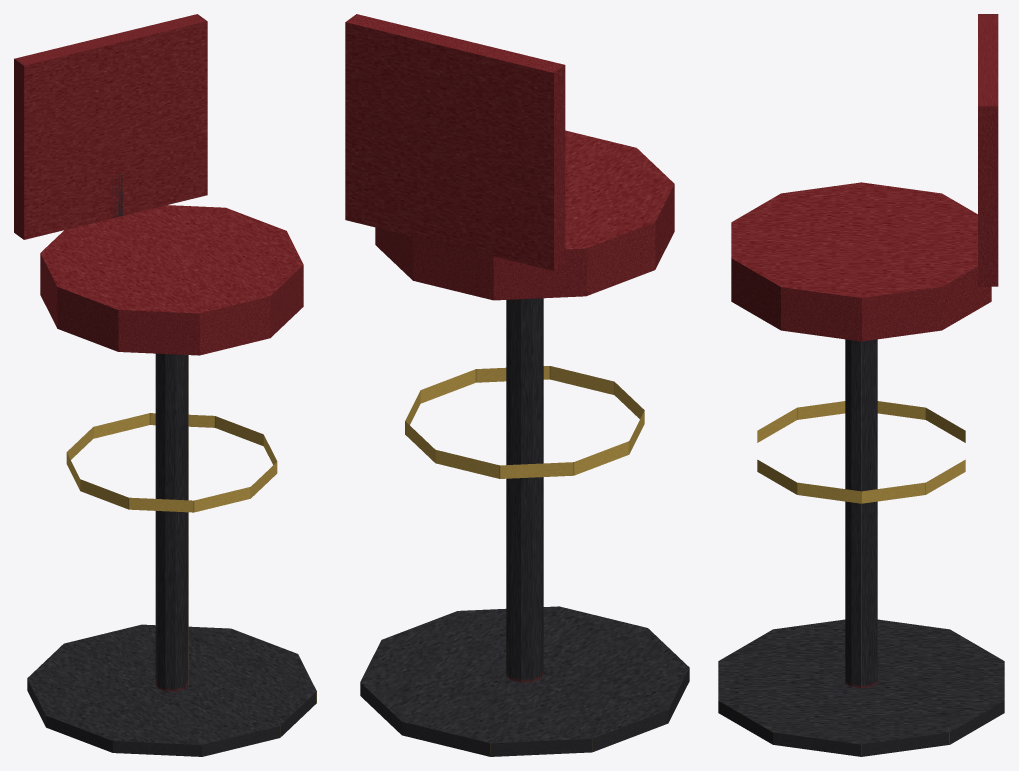
The model's file is SM_BarStool.fbx.
The picture shows the model from 3 angles, left to right: view 1: azimuth 30°, elevation 25°; view 2: azimuth 150°, elevation 25°; view 3: azimuth 270°, elevation 25°; orthographic projection. The views are drawn at different scales.
Visible parts, largest first — view 1: SM_BarStool; view 2: SM_BarStool; view 3: SM_BarStool.
Boxes of the visible parts, left/top/right/bottom form: SM_BarStool: left=14, top=14, right=316, bottom=756; SM_BarStool: left=345, top=14, right=689, bottom=756; SM_BarStool: left=718, top=14, right=1004, bottom=756.
Size of the model in its own units: 0.44 by 1.02 by 0.4185.
Materials: 1 (1 with a texture image).
